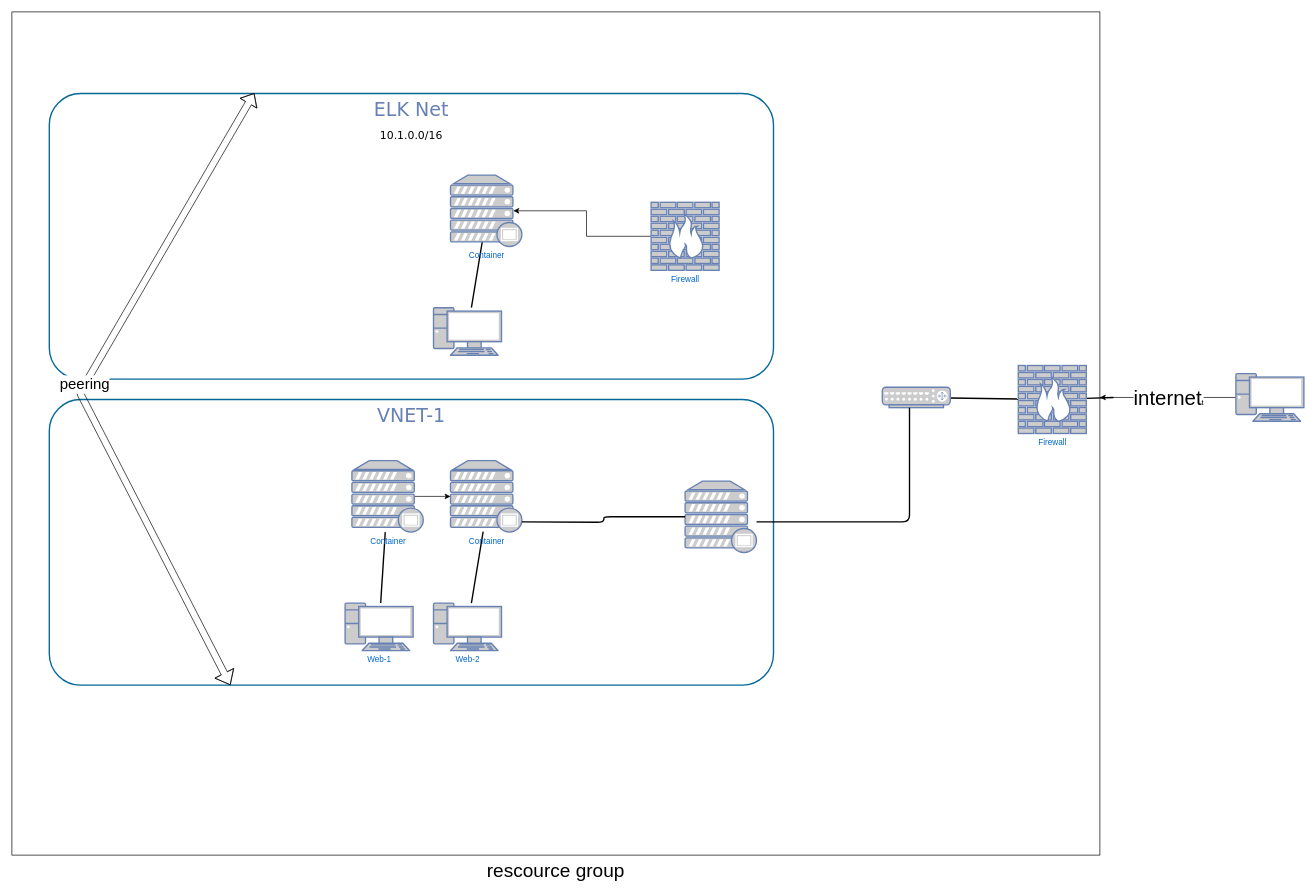
Some shapes in this 1316 by 895 pixel diagram are drawn without their labels. Each missing label, with the centre of its shape:
ELK Server 52.254.2.66: the point at 467,331
Host Computer: the point at 1269,397
Jump Box 168.61.48.144: the point at 916,397
Load Balancer 52.186.140.109: the point at 720,516
